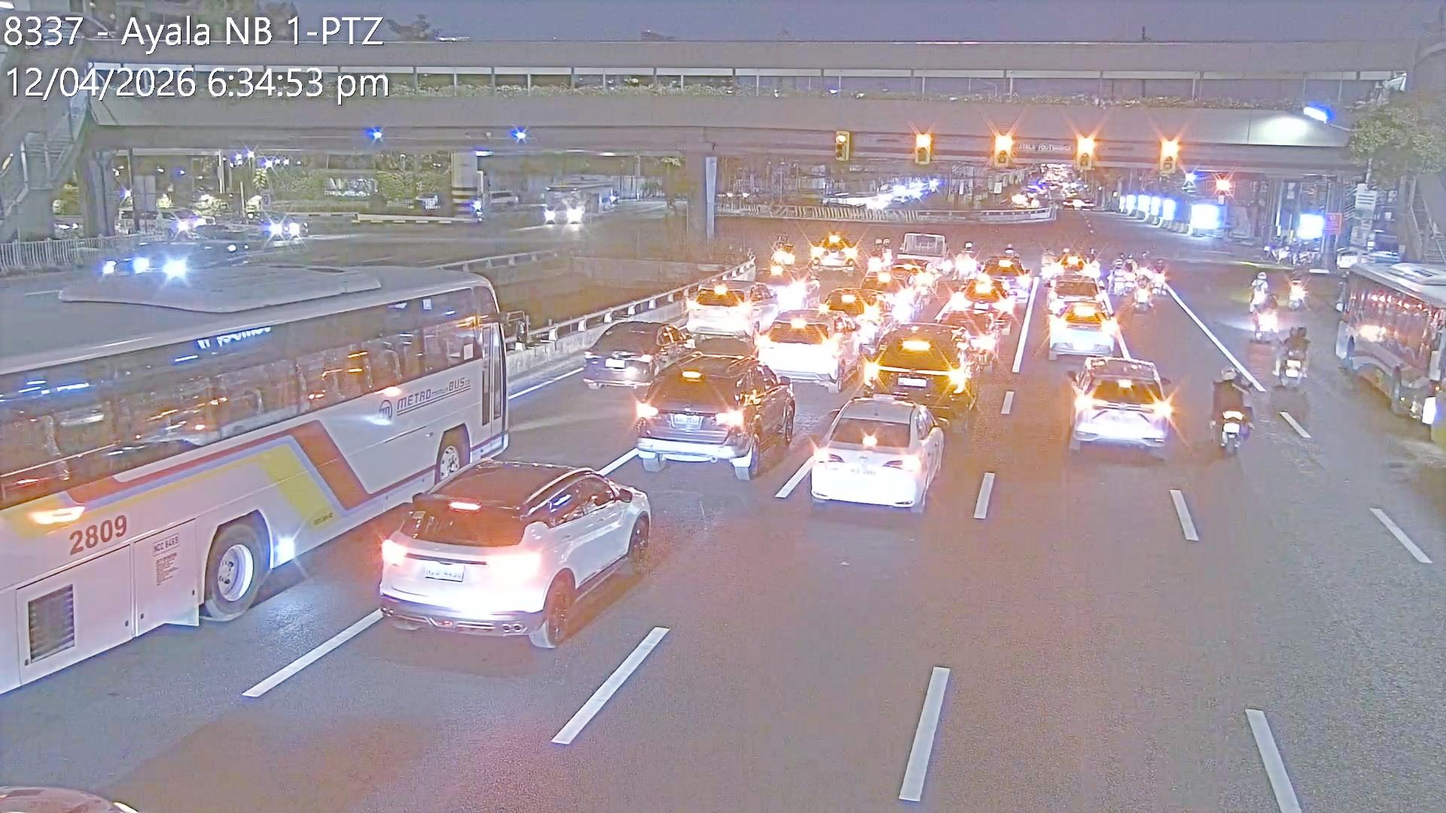Car: (375, 458, 648, 649), (640, 350, 792, 476), (810, 397, 945, 515), (864, 321, 981, 431), (1067, 357, 1176, 459), (594, 318, 711, 393), (755, 310, 858, 388), (935, 308, 1010, 373), (1045, 300, 1120, 362), (683, 283, 761, 339), (817, 285, 886, 342), (756, 263, 823, 313), (868, 265, 922, 320), (954, 276, 1014, 324), (1045, 274, 1106, 317), (979, 257, 1033, 301), (894, 251, 939, 303), (808, 236, 862, 279)
Motor: (1209, 364, 1256, 452), (1272, 333, 1307, 390), (1257, 294, 1278, 339), (1132, 269, 1153, 311), (1249, 266, 1268, 312), (869, 236, 891, 271), (1109, 254, 1126, 299), (1286, 272, 1304, 313), (1151, 258, 1169, 298), (770, 238, 794, 266), (958, 241, 977, 272), (1125, 252, 1135, 291)
Not Accident: (613, 288, 768, 466), (914, 253, 1023, 395), (770, 244, 875, 371), (1044, 267, 1115, 394), (1106, 247, 1154, 308)
